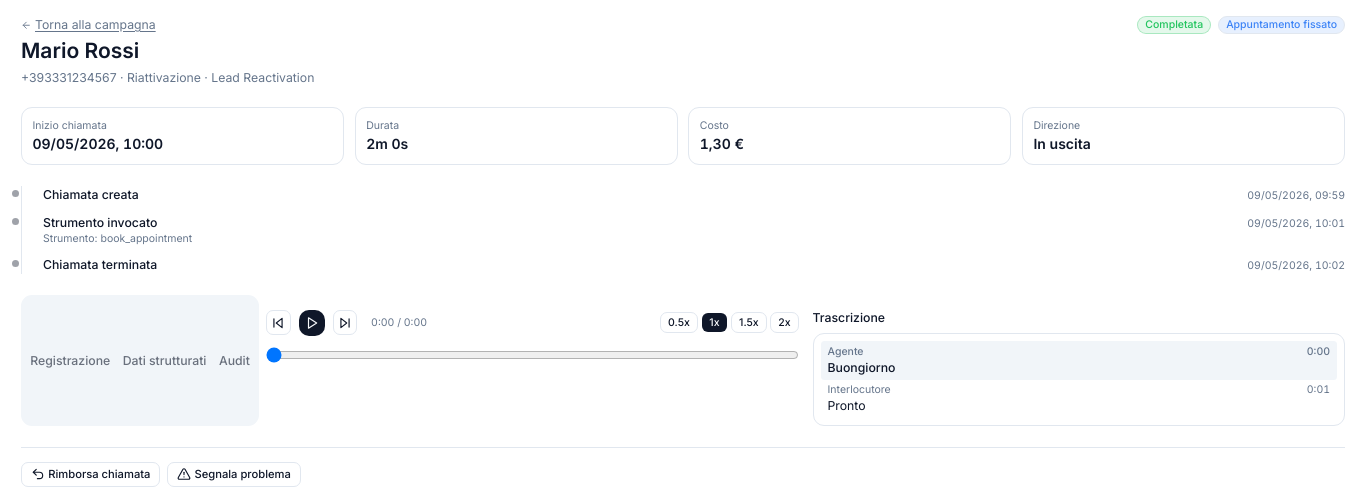
Test: CallDetailClient › shows the audit-forbidden message when the audit slice is null
The width and height of the screenshot is (1362, 504).
Click the tab "Audit": coordinates (234, 360) [213, 298, 256, 422]
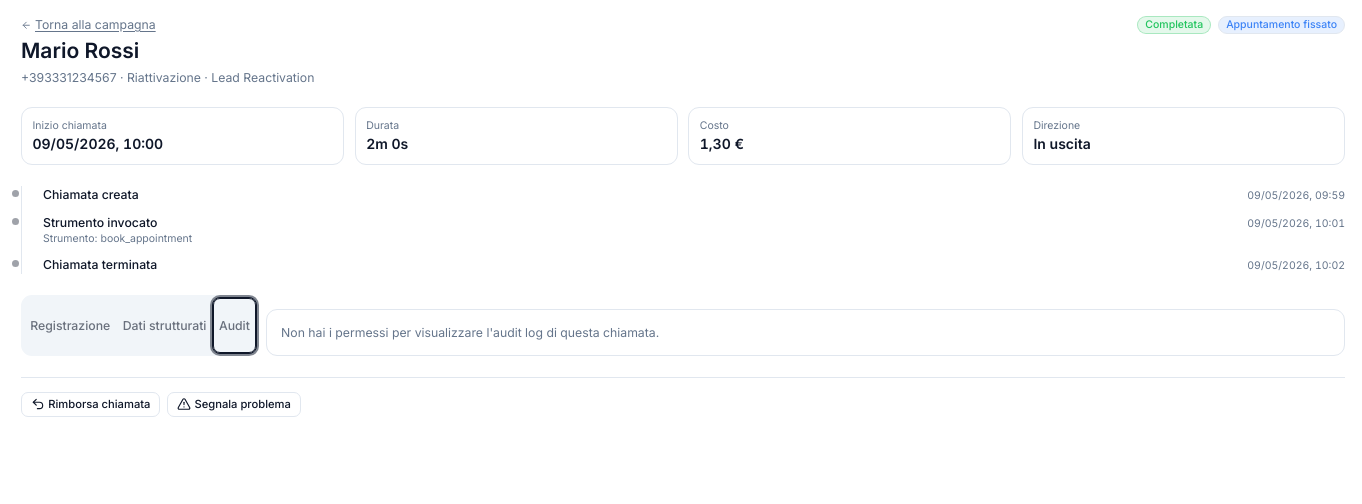
Check: the text "Non hai i permessi per visualizzare l'audit log" is shown, box [281, 324, 659, 340]
